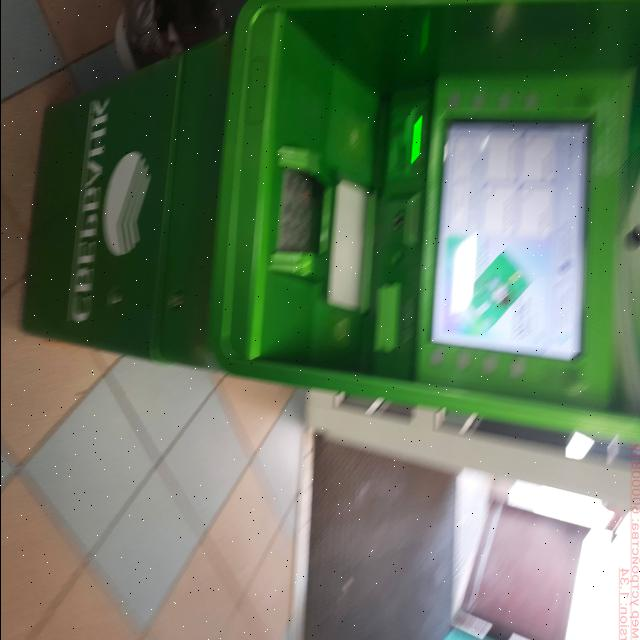bank: (18, 0, 640, 458)
